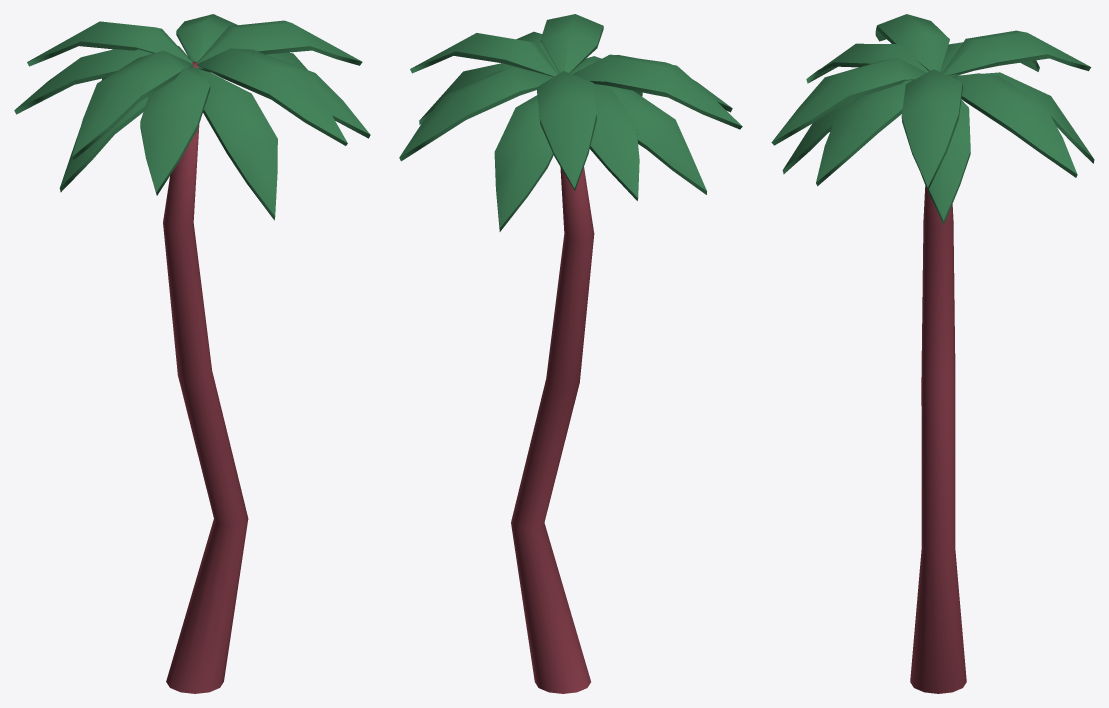
File: coqueiro.fbx
3 renders of one model, left to right at view 1: azimuth 30°, elevation 25°; view 2: azimuth 150°, elevation 25°; view 3: azimuth 270°, elevation 25°, orthographic. The views are drawn at different scales.
Parts seen in each view (by area): view 1: coqueiro; view 2: coqueiro; view 3: coqueiro.
Part boxes in pixels (bbox=[...]): coqueiro: bbox=[14, 14, 370, 693]; coqueiro: bbox=[399, 14, 742, 693]; coqueiro: bbox=[771, 14, 1094, 693].
Bounding box in the file's own units: 91.12 × 178 × 82.43.
